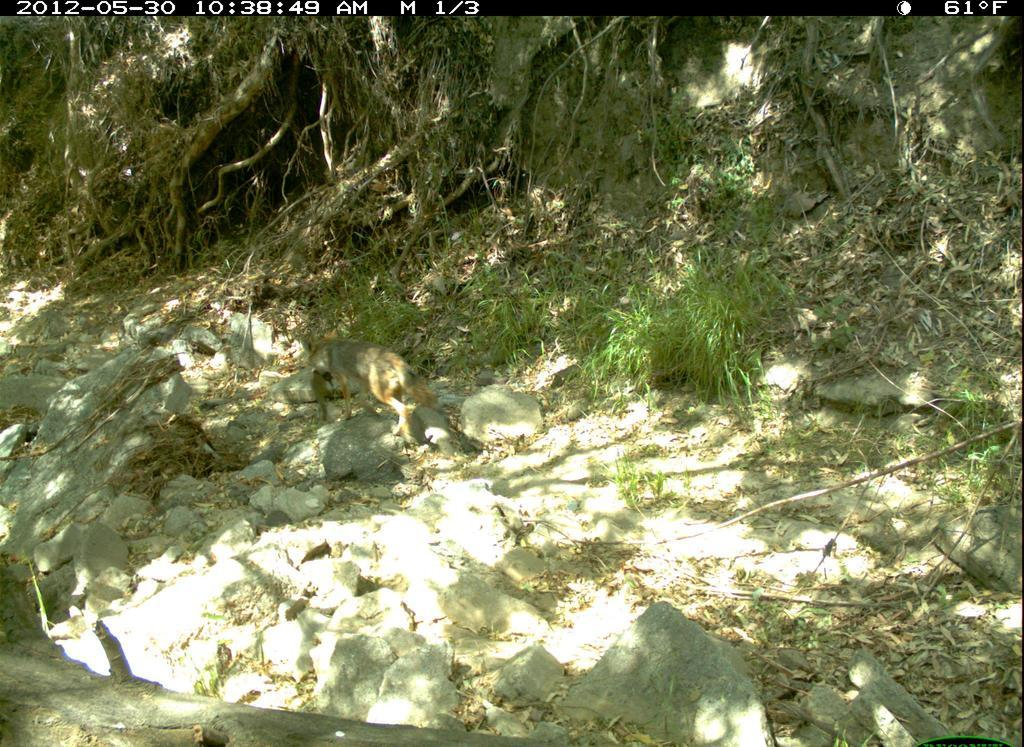coyote: (276, 324, 456, 455)
